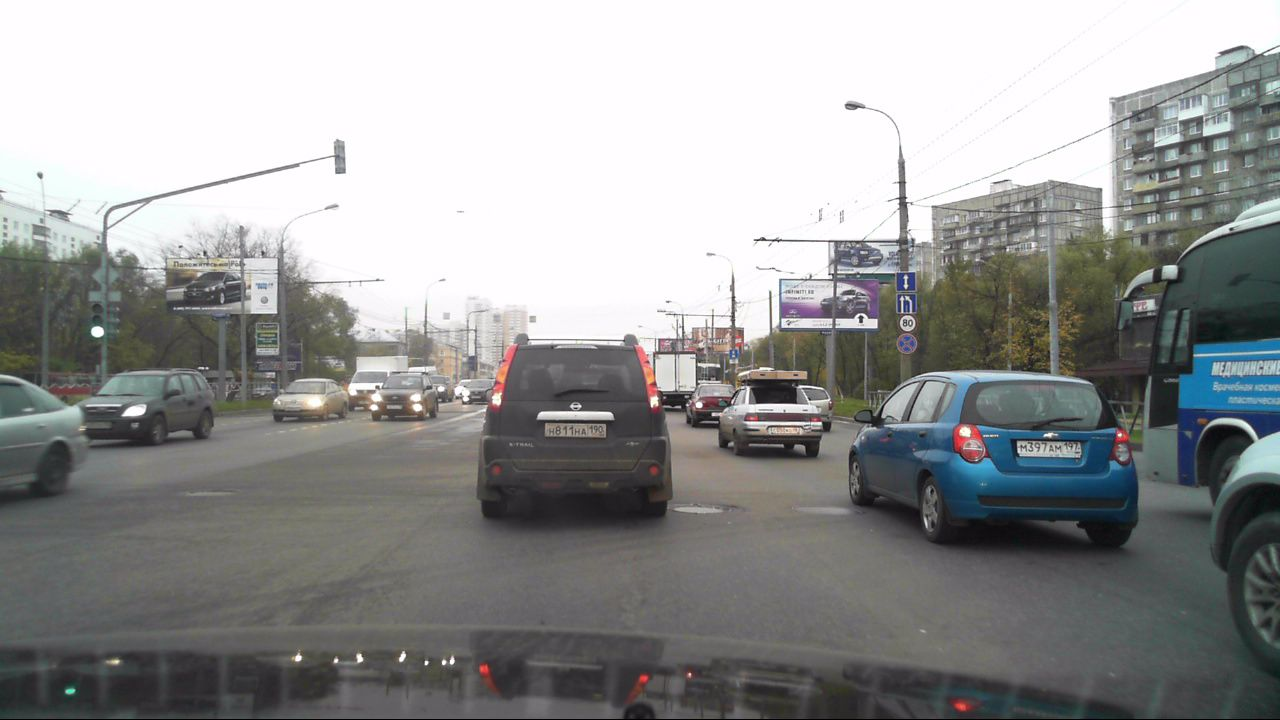No Parking: (896, 333, 917, 355)
